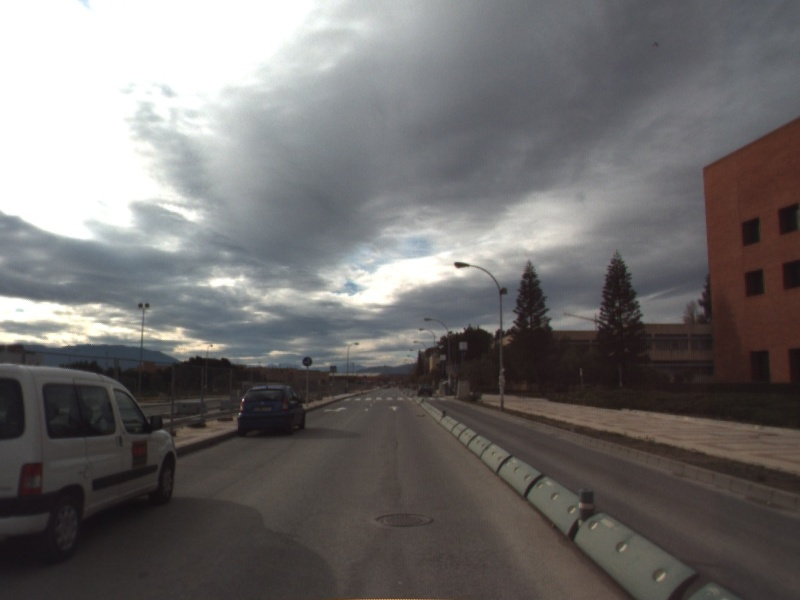STRAIGHT: (386, 404, 401, 412)
STRAIGHT_LEFT: (322, 405, 349, 414)
